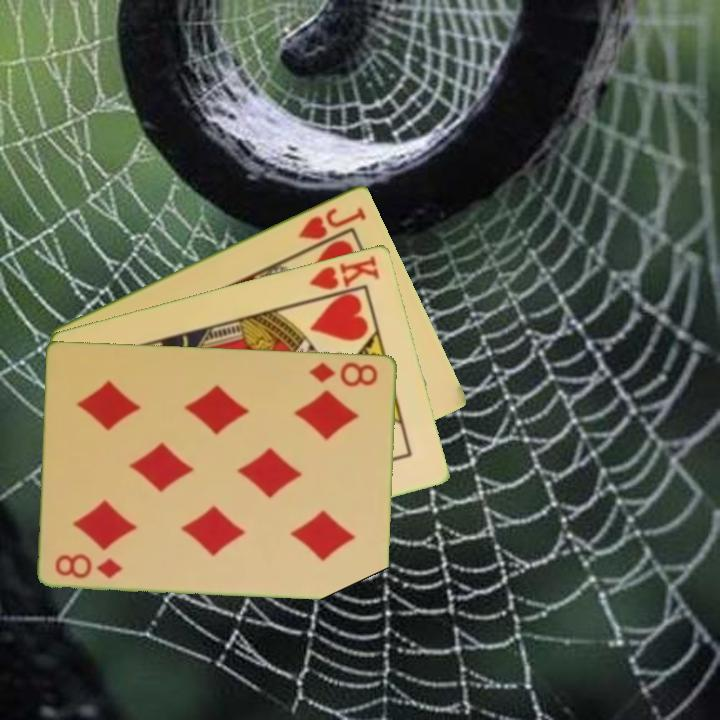8d: (306, 358, 381, 389), (51, 550, 125, 581)
Jh: (295, 203, 370, 242)
Kh: (305, 252, 383, 302)
